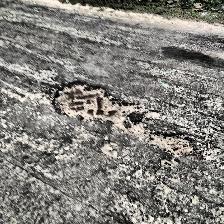pothole: (50, 78, 146, 138), (146, 131, 196, 158)
